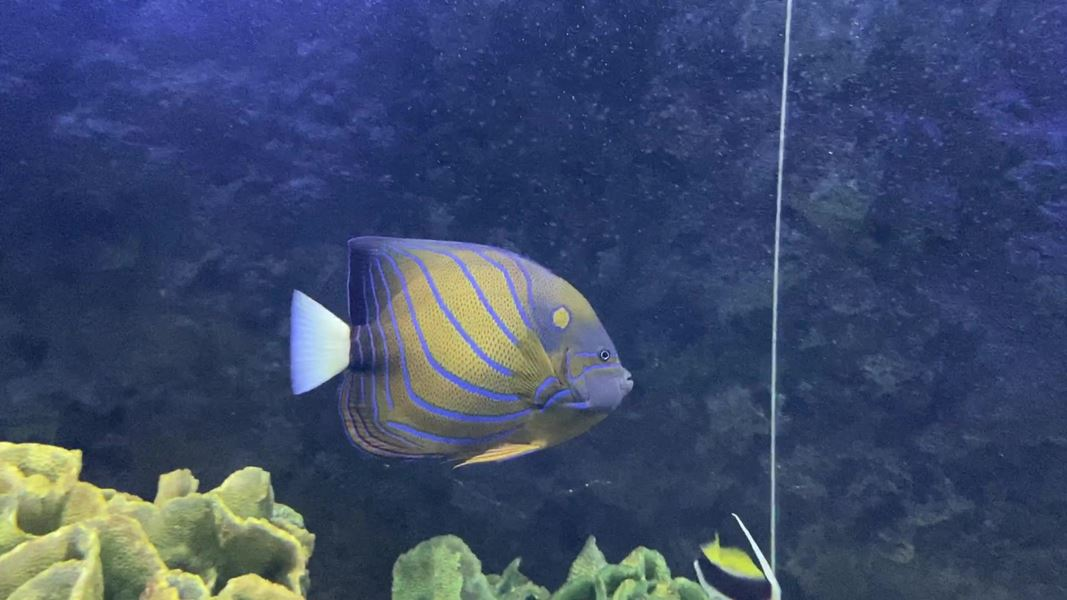Blue ring angelfish: (278, 230, 643, 503)
